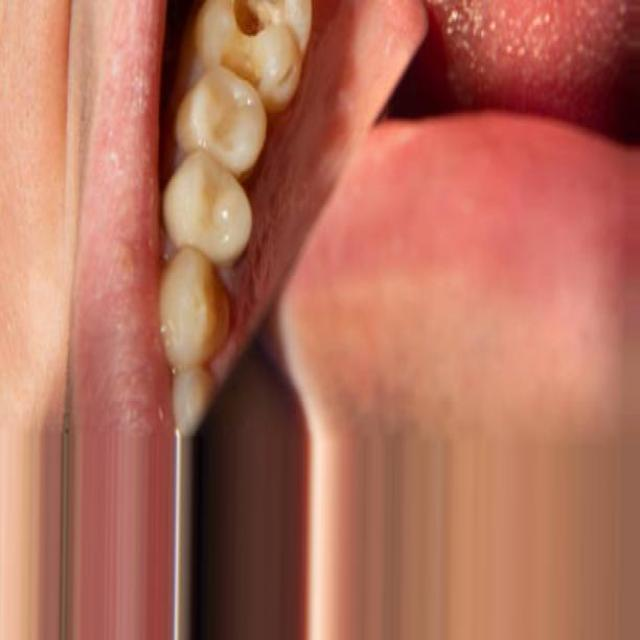caries: (206, 0, 296, 90)
